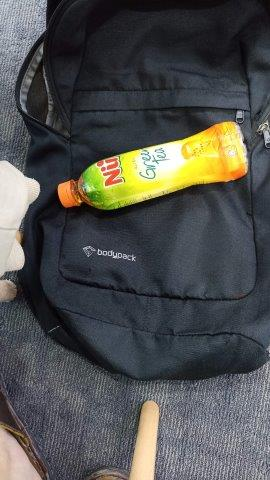botolplastik: (57, 122, 248, 210)
